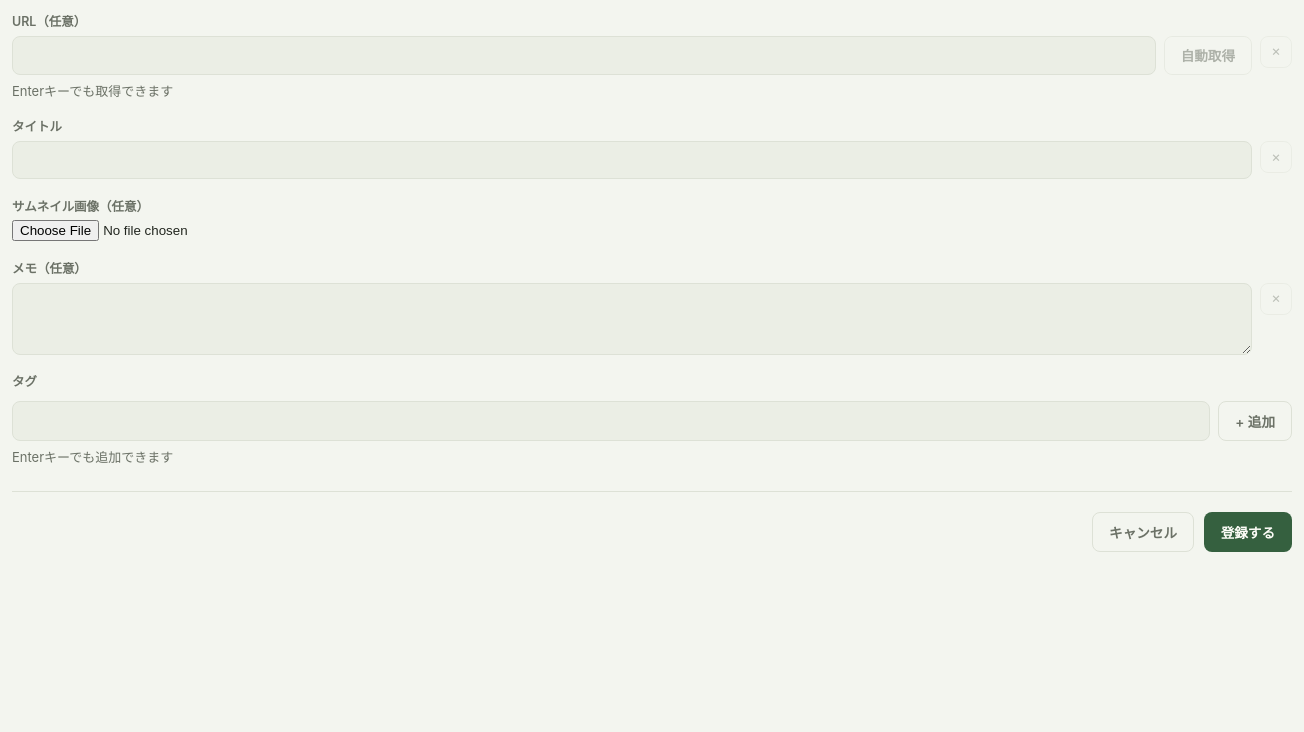
Test: RecipeRegisterForm › 削除ボタン押下でURL欄とサムネイルプレビューが消える
This screenshot has width=1304, height=732.
Type "https://www.youtube.com/watch?v=xxxx" into the field labelled "URL（任意）".
click(584, 55); type("https://www.youtube.com/watch?v=xxxx")  # box 12,36 -> 1156,75
Then press Enter
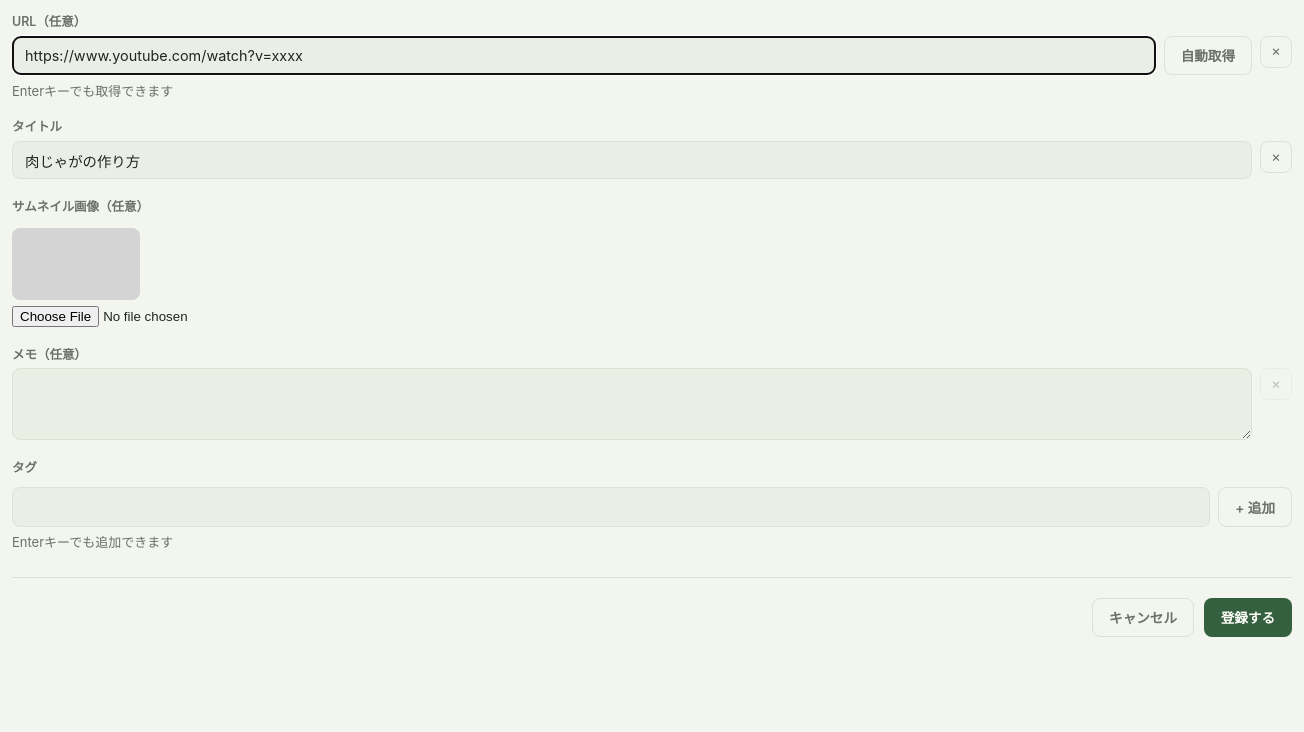
expect the field showing "肉じゃがの作り方" is shown: met, box 12,141 -> 1252,179
Click the button named "URLを削除".
click(1276, 52)  # box 1260,36 -> 1292,68
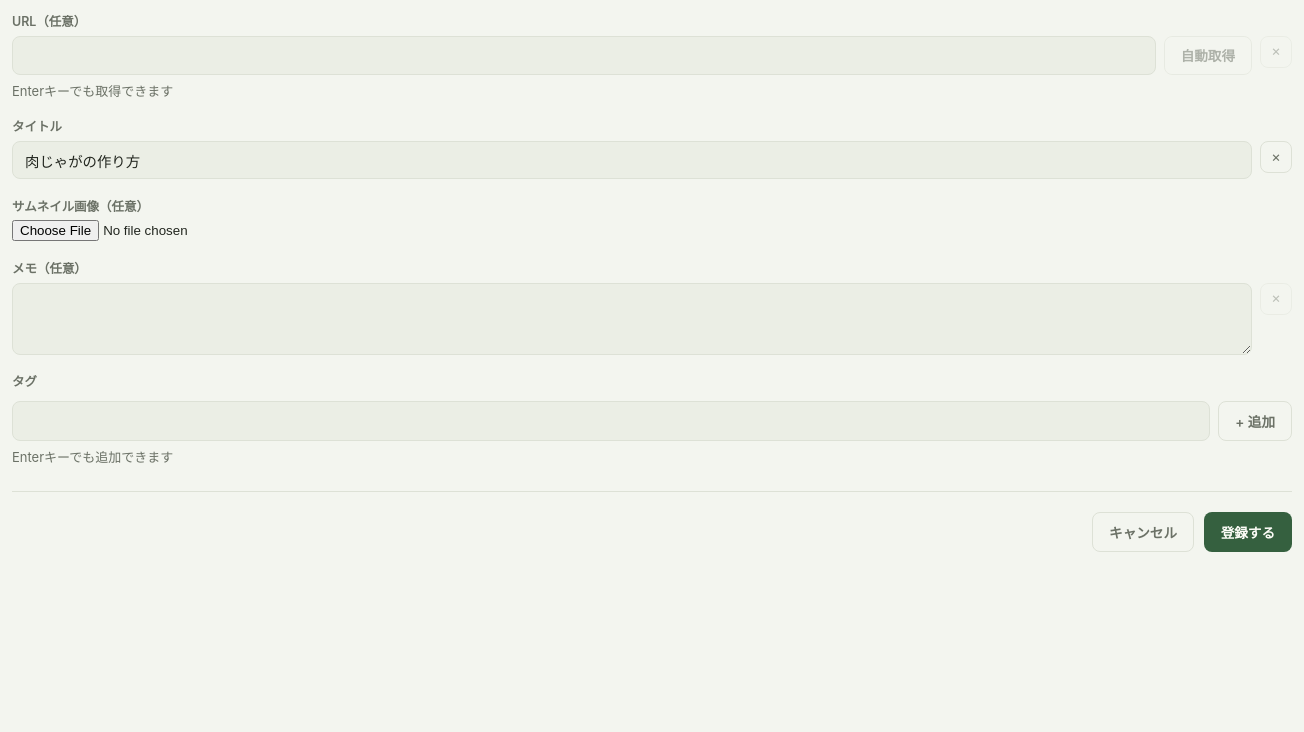
expect the field labelled "URL（任意）" is empty: met, box 12,36 -> 1156,75
expect the picture is gone: met
